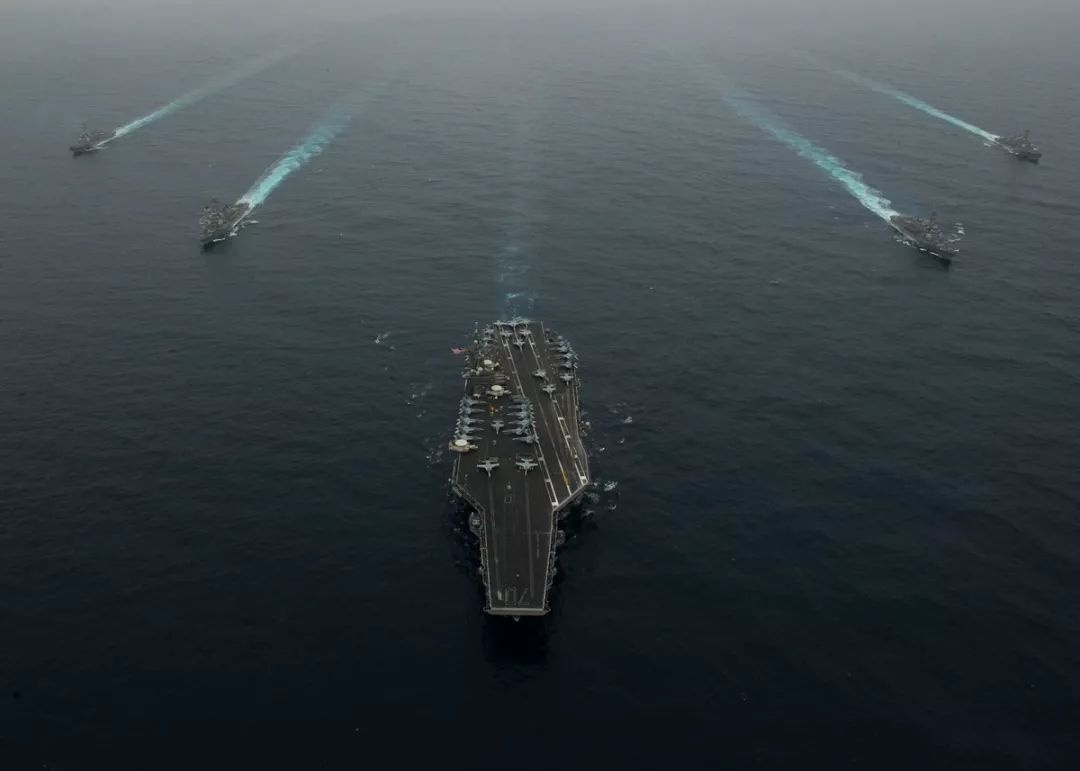warship: (437, 309, 593, 625), (881, 202, 972, 269), (193, 194, 254, 254), (988, 122, 1046, 168), (62, 120, 116, 157)
